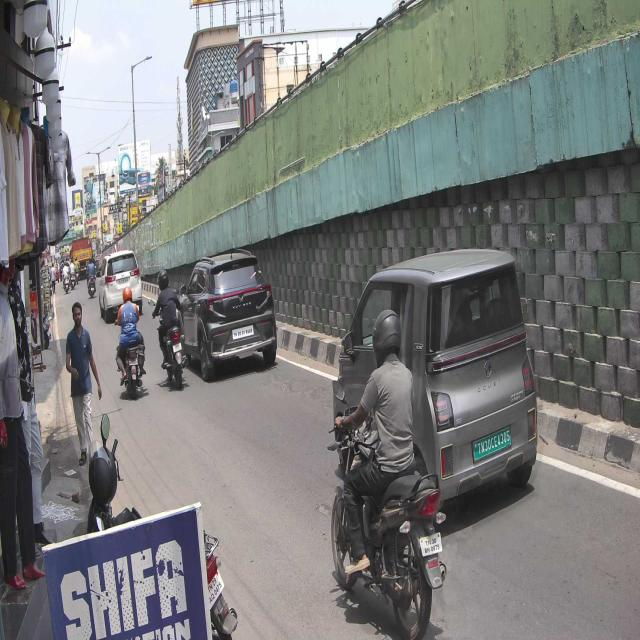single_rider: (328, 304, 449, 640)
